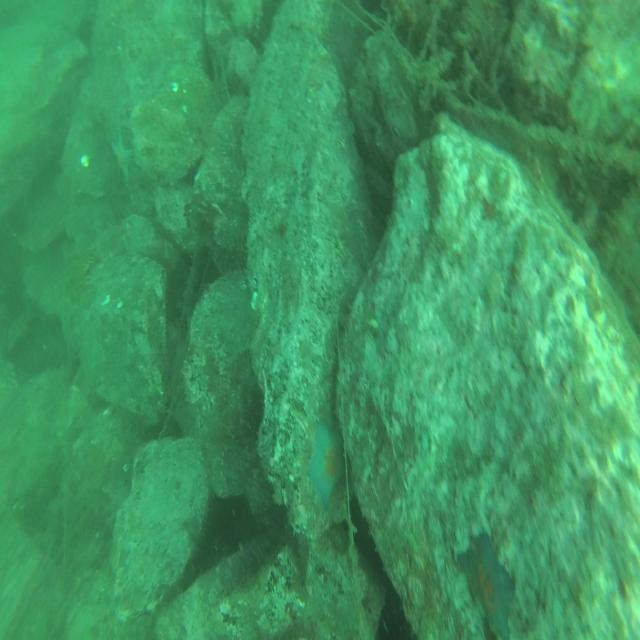holothurian: (222, 535, 275, 597), (59, 242, 100, 318), (192, 165, 214, 236)
starfish: (453, 532, 518, 637), (304, 418, 350, 513)
